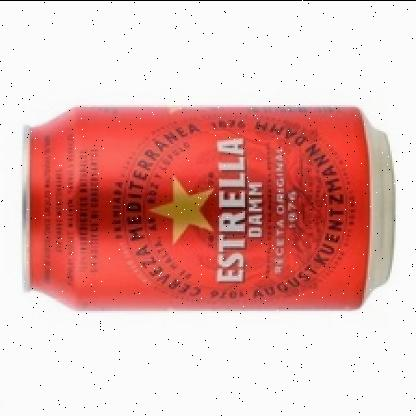Can: (22, 104, 398, 312)
